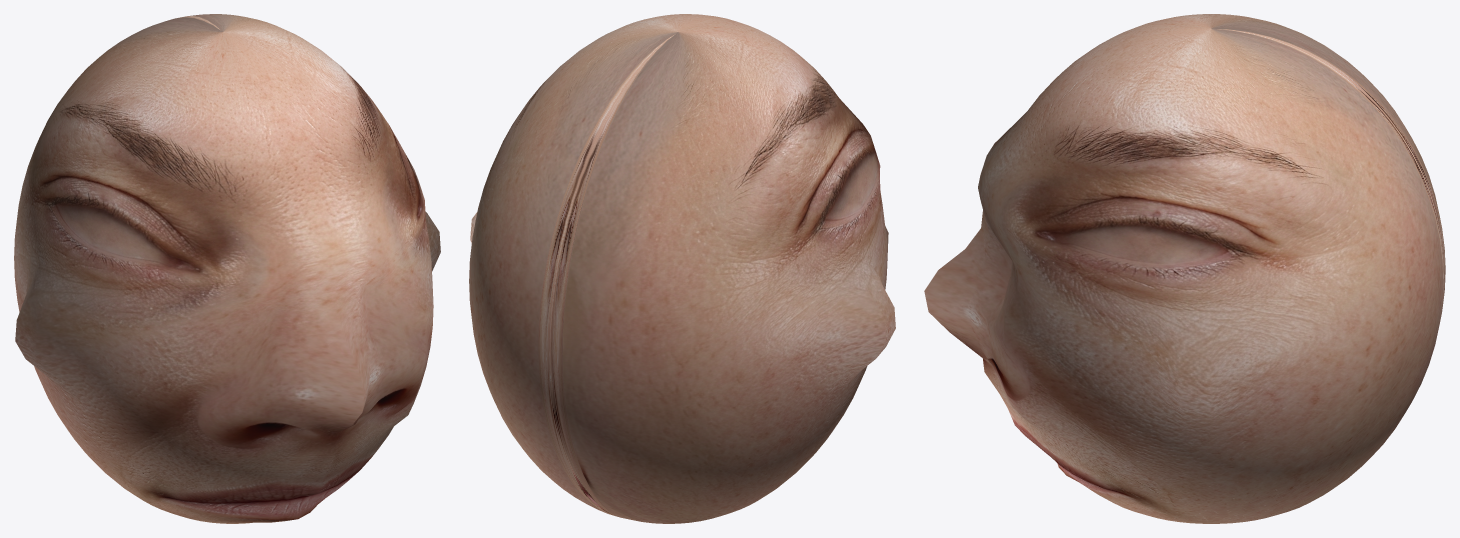
File: human_head_realistic.obj
3 views of the same model, side by side, from view 1: azimuth 30°, elevation 25°; view 2: azimuth 150°, elevation 25°; view 3: azimuth 270°, elevation 25° (orthographic).
Parts seen in each view (by area): view 1: Realistic_Human_Head_And_Face; view 2: Realistic_Human_Head_And_Face; view 3: Realistic_Human_Head_And_Face.
Boxes of the visible parts, x1,y1,x2,y2 form: Realistic_Human_Head_And_Face: (14,14,440,523); Realistic_Human_Head_And_Face: (469,14,895,523); Realistic_Human_Head_And_Face: (924,14,1445,523).
Bounding box in the file's own units: 0.229 × 0.25 × 0.2447.
